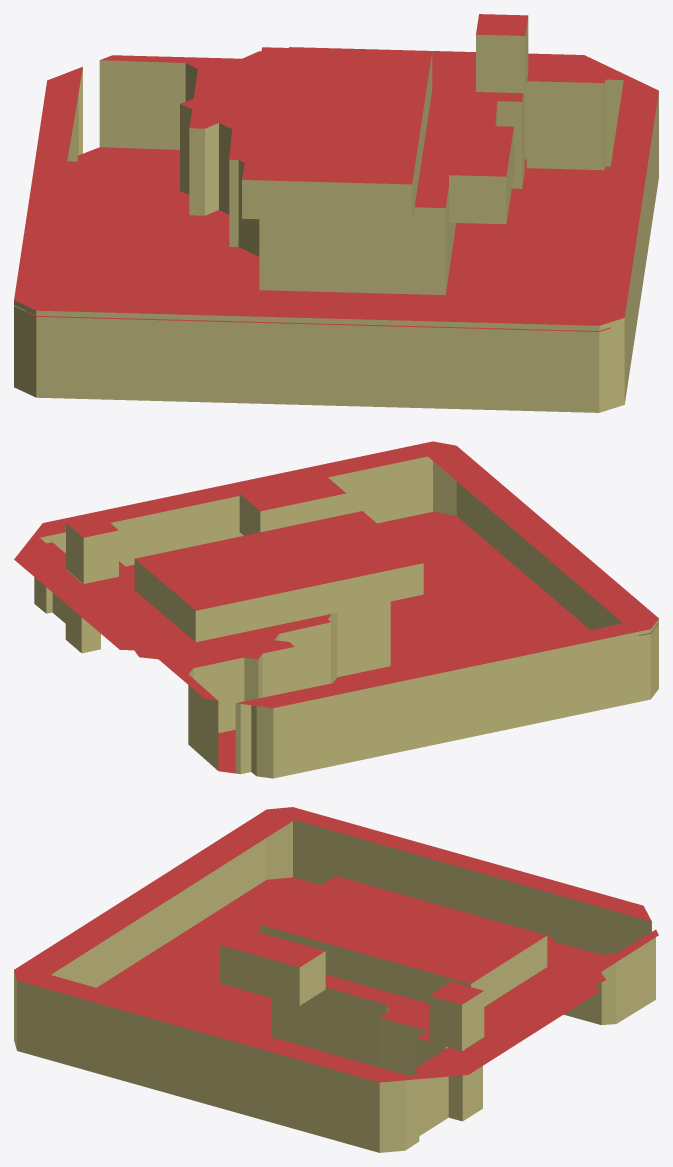
3 renders of one model, top to bottom at view 1: azimuth 30°, elevation 25°; view 2: azimuth 150°, elevation 25°; view 3: azimuth 270°, elevation 25°, orthographic. The views are drawn at different scales.
Parts seen in each view (by area): view 1: group_11, group_12, group_3, group_6, group_7, group_10, group_5, group_9, group_4, group_8; view 2: group_11, group_3, group_12, group_6, group_7, group_10, group_5, group_9, group_4, group_8; view 3: group_11, group_3, group_6, group_12, group_7, group_10, group_5, group_9, group_4, group_8.
Boxes of the visible parts, box(x1,y1,x2,y2) form: group_11: box(14, 60, 658, 412); group_12: box(25, 147, 610, 331); group_3: box(14, 47, 658, 325); group_6: box(242, 47, 431, 184); group_7: box(242, 52, 432, 223); group_10: box(71, 47, 633, 207); group_5: box(449, 128, 513, 224); group_9: box(476, 17, 528, 93); group_4: box(449, 125, 513, 176); group_8: box(476, 14, 528, 35); group_11: box(34, 456, 658, 778); group_3: box(14, 441, 658, 708); group_12: box(218, 512, 589, 773); group_6: box(135, 511, 423, 610); group_7: box(134, 559, 423, 642); group_10: box(15, 536, 330, 705); group_5: box(239, 493, 346, 535); group_9: box(66, 523, 118, 583); group_4: box(240, 476, 345, 511); group_8: box(66, 515, 118, 537); group_11: box(14, 820, 655, 1152); group_3: box(14, 807, 658, 1082); group_6: box(259, 876, 546, 983); group_12: box(97, 877, 320, 1036); group_7: box(259, 924, 547, 1006); group_10: box(325, 913, 656, 1079); group_5: box(219, 945, 325, 1005); group_9: box(429, 991, 484, 1050); group_4: box(220, 928, 324, 967); group_8: box(429, 981, 483, 1004).
Size of the model in its own units: 72.12 by 71.35 by 14.24.
